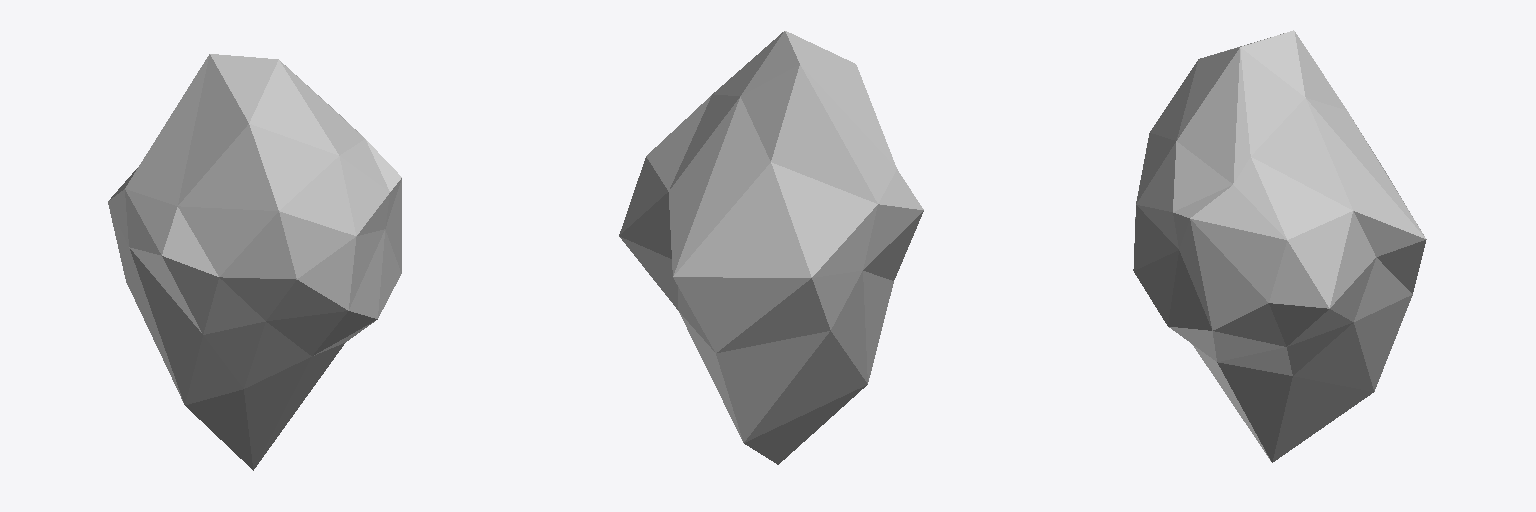
File: rock-1.obj
3 views of the same model, side by side, from view 1: azimuth 30°, elevation 25°; view 2: azimuth 150°, elevation 25°; view 3: azimuth 270°, elevation 25° (orthographic).
Visible parts, largest first — view 1: Icosphere.001; view 2: Icosphere.001; view 3: Icosphere.001.
Part boxes in pixels (x1,y1,x2,y2): Icosphere.001: (108, 54, 401, 470); Icosphere.001: (619, 31, 923, 464); Icosphere.001: (1133, 30, 1426, 462).
Bounding box in the file's own units: 1.04 × 1.67 × 1.06.